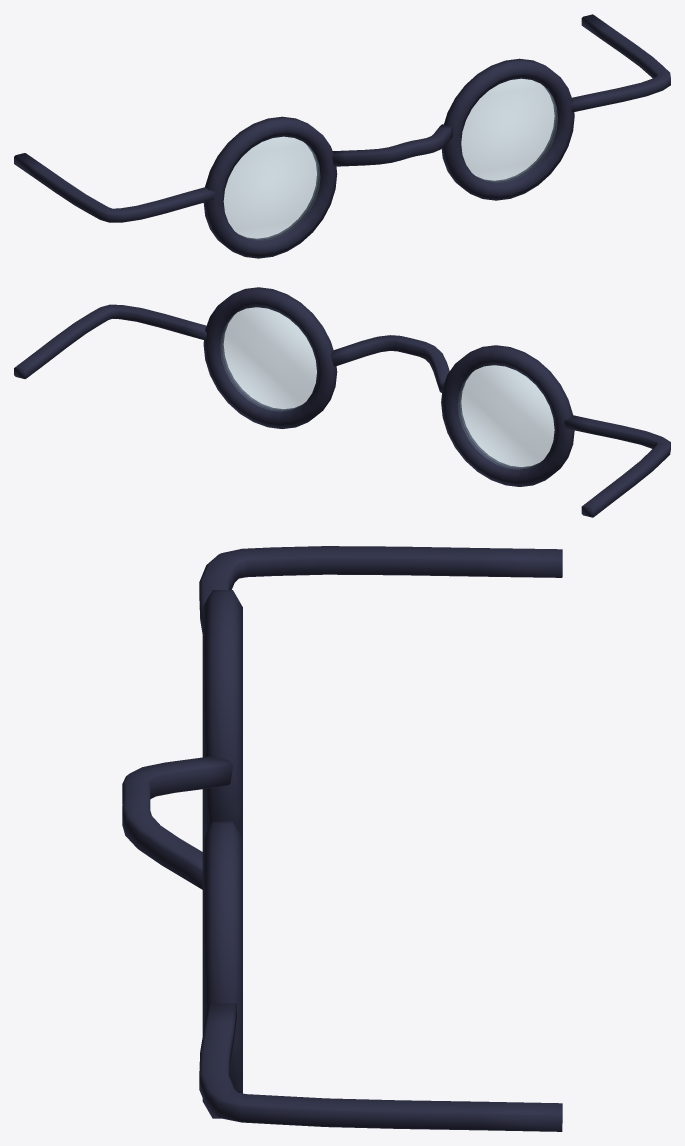
Rendered from round_glasses-koala.glb.
3 views of the same model, one above another, from view 1: azimuth 30°, elevation 25°; view 2: azimuth 150°, elevation 25°; view 3: azimuth 270°, elevation 25° (orthographic). The views are drawn at different scales.
Visible parts, largest first — view 1: lens, lens.001, rim.001, rim, temple.001, temple, bridge; view 2: lens.001, lens, rim, rim.001, temple, temple.001, bridge; view 3: temple, temple.001, rim.001, rim, bridge.
Part boxes in pixels (x1,y1,x2,y2): lens: [461, 78, 557, 182]; lens.001: [223, 136, 320, 240]; rim.001: [203, 116, 337, 258]; rim: [441, 58, 574, 200]; temple.001: [14, 153, 214, 222]; temple: [571, 14, 670, 112]; bridge: [332, 124, 452, 166]; lens.001: [458, 365, 554, 469]; lens: [220, 307, 316, 411]; rim: [203, 287, 337, 428]; rim.001: [441, 345, 574, 486]; temple: [14, 304, 206, 378]; temple.001: [564, 415, 670, 517]; bridge: [331, 335, 449, 392]; temple: [199, 1002, 562, 1131]; temple.001: [199, 546, 562, 633]; rim.001: [202, 590, 242, 838]; rim: [202, 821, 242, 1118]; bridge: [122, 756, 232, 889].
Size of the model in its own units: 1.33 by 0.2946 by 0.437.
